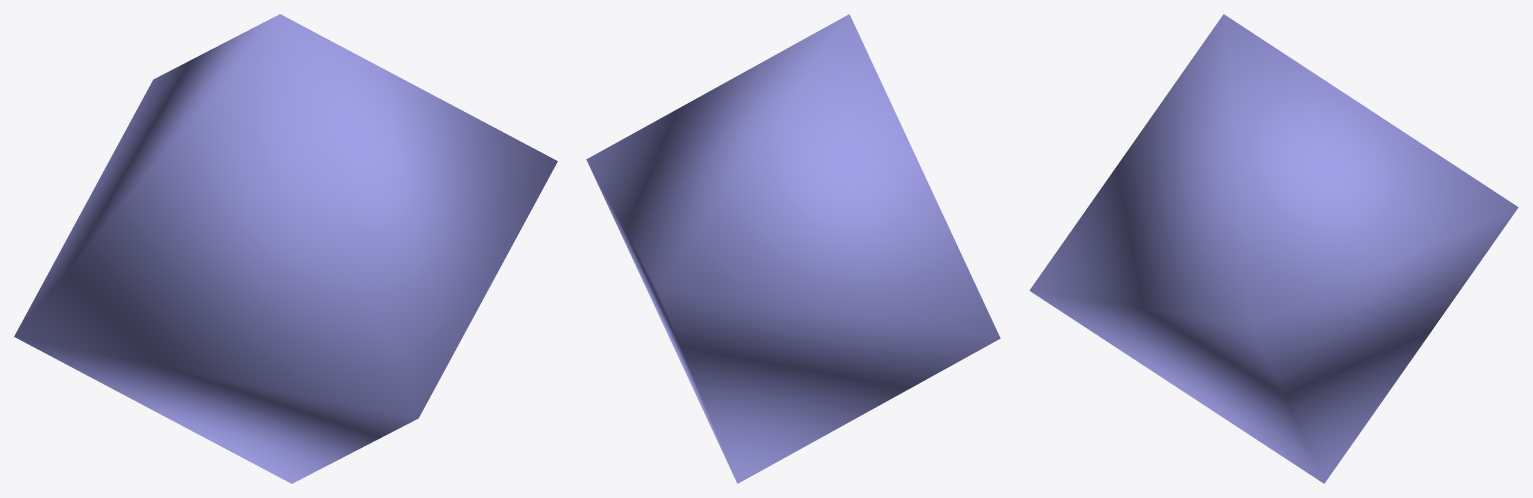
File: animin3.dae
3 views of the same model, side by side, from view 1: azimuth 30°, elevation 25°; view 2: azimuth 150°, elevation 25°; view 3: azimuth 270°, elevation 25° (orthographic). The views are drawn at different scales.
Visible parts, largest first — view 1: tarjeta_MAIN_01; view 2: tarjeta_MAIN_01; view 3: tarjeta_MAIN_01.
Boxes of the visible parts, x1=… form: tarjeta_MAIN_01: x1=14, y1=14, x2=557, y2=483; tarjeta_MAIN_01: x1=586, y1=14, x2=1000, y2=483; tarjeta_MAIN_01: x1=1029, y1=14, x2=1518, y2=483.
Size of the model in its own units: 2.28 by 2.25 by 2.23.
